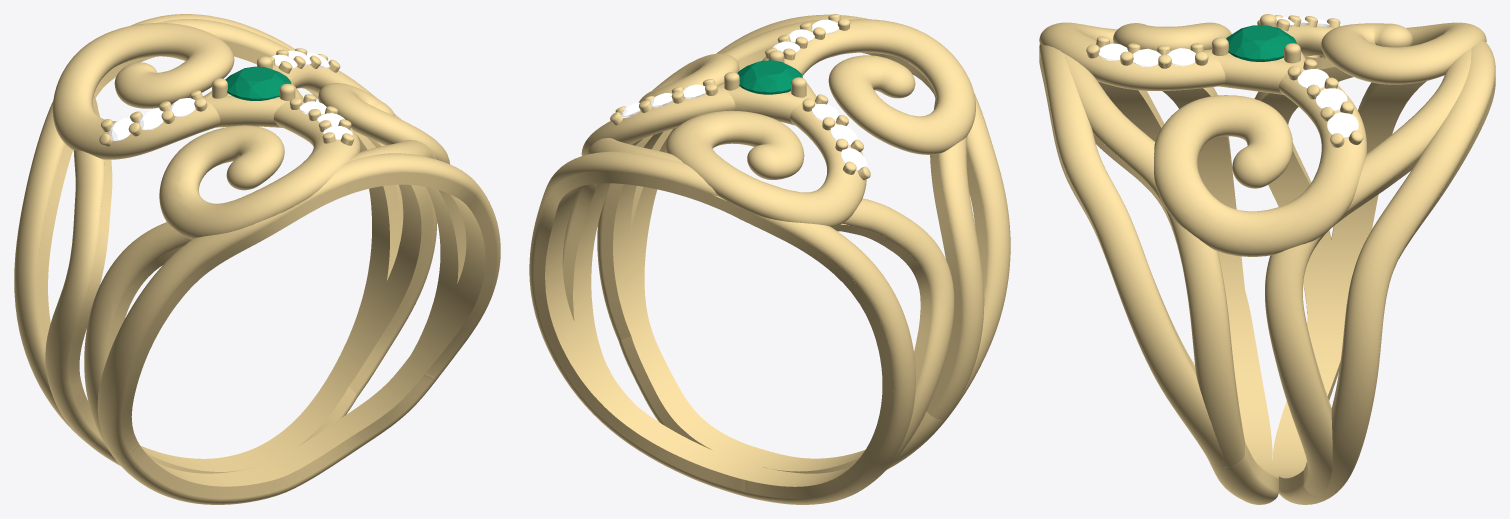
Rendered from hero-trisquel.glb.
3 renders of one model, left to right at view 1: azimuth 30°, elevation 25°; view 2: azimuth 150°, elevation 25°; view 3: azimuth 270°, elevation 25°, orthographic. The views are drawn at different scales.
Parts seen in each view (by area): view 1: object 1, RoundDiamondGG, GG_Round; view 2: object 1, RoundDiamondGG, GG_Round; view 3: object 1, RoundDiamondGG, GG_Round.
Boxes of the visible parts, box(x1,y1,x2,y2) form: object 1: box(14, 14, 500, 504); RoundDiamondGG: box(109, 50, 352, 140); GG_Round: box(225, 66, 291, 100); object 1: box(529, 14, 1010, 504); RoundDiamondGG: box(621, 19, 866, 170); GG_Round: box(737, 60, 802, 94); object 1: box(1039, 14, 1495, 504); RoundDiamondGG: box(1098, 17, 1358, 138); GG_Round: box(1226, 25, 1296, 61).
Size of the model in its own units: 0.0195 by 0.0205 by 0.0189.
